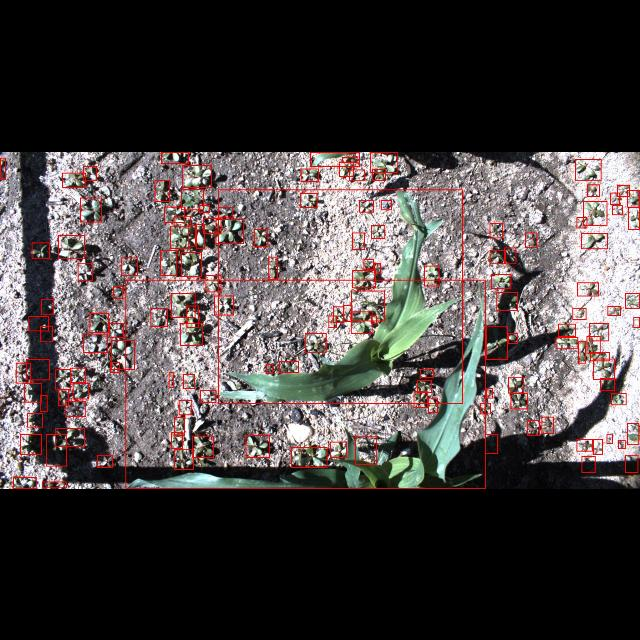crop: (125, 280, 485, 488), (218, 189, 462, 403), (310, 151, 360, 165)
weed: (352, 290, 384, 320), (291, 447, 327, 467), (487, 326, 508, 358), (182, 165, 212, 187), (215, 218, 242, 242), (46, 434, 66, 466), (112, 339, 134, 368), (58, 234, 84, 258), (171, 293, 195, 317), (583, 200, 607, 224), (575, 158, 601, 180), (356, 436, 376, 464), (80, 197, 102, 221), (371, 151, 397, 171), (180, 188, 203, 210), (56, 428, 84, 446), (192, 435, 214, 457), (246, 435, 268, 457), (180, 323, 202, 345), (26, 358, 49, 379), (181, 252, 201, 276), (351, 311, 372, 333), (83, 333, 107, 352), (20, 434, 42, 454), (304, 332, 326, 352), (352, 269, 376, 287), (581, 232, 607, 248), (170, 225, 188, 248), (594, 359, 614, 379), (161, 250, 177, 274), (174, 449, 193, 469), (497, 292, 518, 310), (90, 313, 108, 332), (214, 296, 233, 314), (24, 382, 41, 402), (62, 172, 86, 186), (150, 308, 168, 326), (590, 322, 608, 340), (66, 400, 86, 416), (165, 206, 185, 222), (154, 180, 170, 200), (424, 265, 440, 285), (15, 362, 30, 382), (56, 368, 70, 389), (32, 242, 50, 258), (122, 257, 138, 275), (510, 393, 528, 409), (29, 316, 49, 330), (161, 152, 189, 162), (484, 433, 498, 453), (491, 274, 511, 288), (578, 282, 598, 296), (628, 206, 640, 228), (73, 383, 89, 399), (330, 441, 346, 457), (508, 377, 524, 393), (78, 262, 92, 280), (254, 228, 268, 246), (203, 218, 221, 232), (556, 337, 578, 348), (187, 306, 199, 326), (70, 368, 86, 382), (206, 275, 220, 291), (300, 192, 316, 206), (339, 160, 353, 176), (586, 336, 600, 352), (625, 292, 639, 308), (14, 478, 36, 488), (628, 423, 638, 445), (301, 168, 319, 180), (626, 454, 638, 472), (558, 324, 576, 336), (627, 190, 639, 207), (174, 416, 184, 436), (268, 258, 278, 278), (280, 361, 298, 372), (109, 323, 123, 337), (28, 413, 42, 427), (178, 400, 192, 414), (41, 298, 53, 314), (40, 325, 52, 341), (200, 390, 216, 402), (414, 391, 426, 407), (416, 380, 432, 392), (352, 232, 364, 248), (197, 223, 205, 247), (528, 420, 540, 436), (577, 439, 593, 451), (582, 456, 594, 472), (490, 250, 506, 262), (490, 222, 502, 238), (542, 417, 554, 433), (504, 247, 516, 263), (590, 352, 610, 361), (84, 166, 96, 180), (98, 455, 112, 467), (350, 168, 364, 180), (372, 168, 386, 180), (612, 393, 626, 405), (525, 232, 537, 246), (572, 307, 586, 319), (600, 378, 614, 390), (58, 389, 68, 405), (172, 432, 182, 448), (334, 306, 344, 322), (218, 206, 234, 216), (188, 225, 196, 245), (174, 215, 190, 225), (593, 438, 603, 454), (578, 342, 586, 362), (372, 225, 384, 238), (183, 374, 194, 388), (42, 482, 66, 488), (343, 305, 352, 321), (587, 184, 599, 196), (617, 184, 629, 196), (428, 398, 438, 412), (359, 200, 373, 210), (421, 368, 434, 378), (0, 158, 6, 178), (610, 192, 620, 204), (577, 216, 587, 228), (608, 305, 620, 315), (110, 362, 120, 372), (363, 258, 373, 268), (480, 403, 490, 413), (508, 333, 518, 343), (381, 199, 391, 209), (114, 286, 122, 298), (41, 395, 47, 411), (329, 315, 337, 327), (342, 156, 358, 162), (612, 204, 622, 213), (199, 204, 209, 212), (374, 262, 380, 274), (618, 439, 626, 448), (169, 372, 173, 388), (486, 388, 492, 398), (266, 363, 272, 372), (634, 317, 638, 327), (608, 434, 612, 444), (372, 315, 376, 323)
